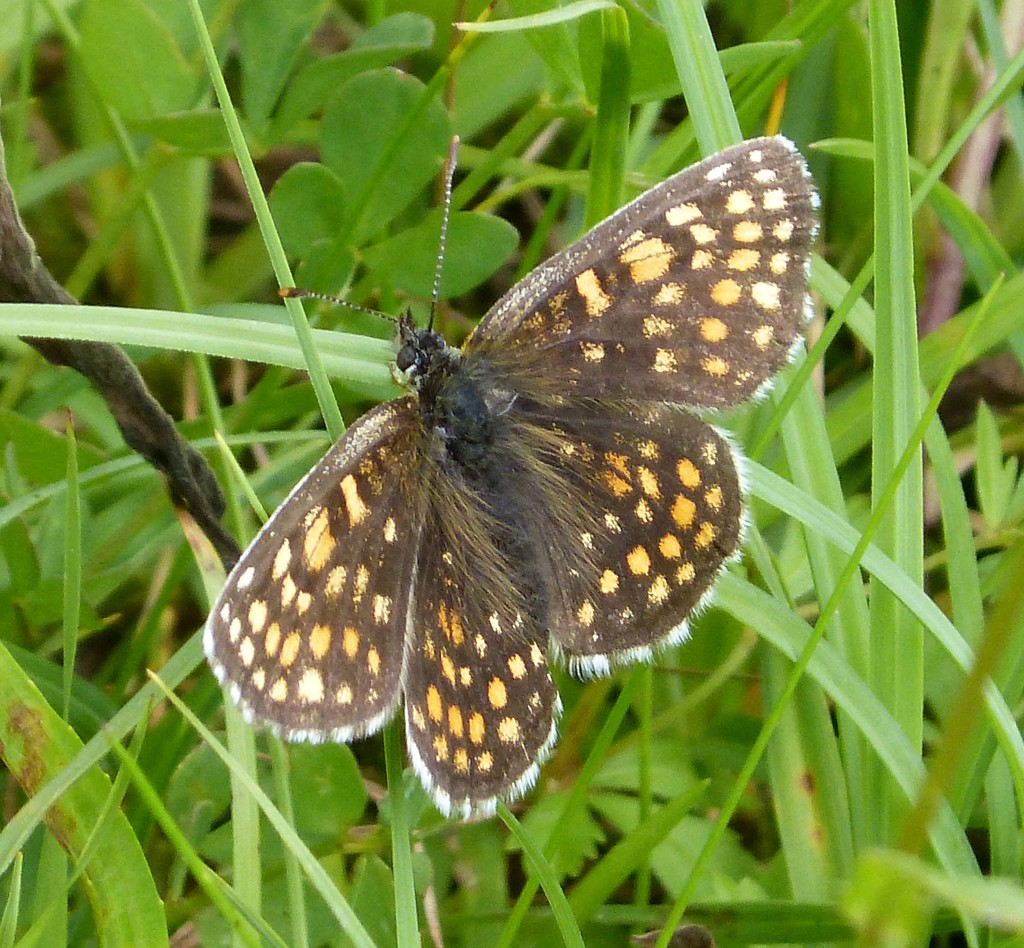Butterfly: (235, 121, 838, 864)
